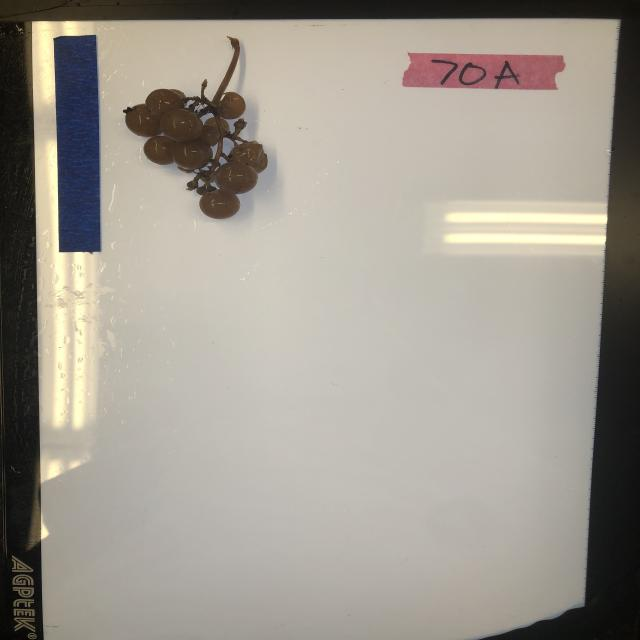grape_cluster: (121, 36, 270, 219)
index: (401, 50, 566, 91)
measure_label: (53, 33, 103, 255)
